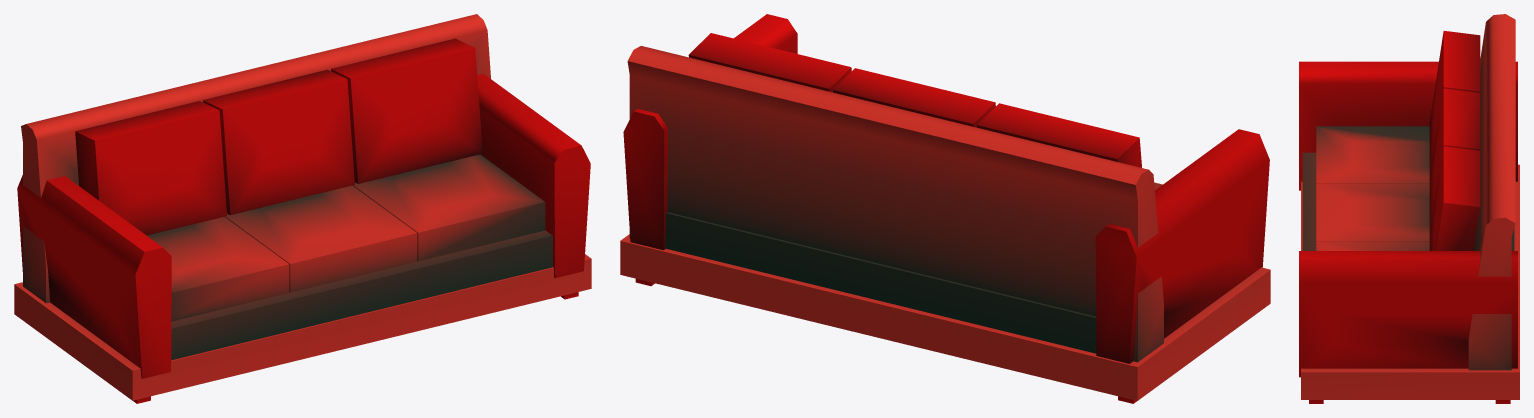
The model's file is CI_Living_Sofa_ThreeSeat_LOD1.glb.
The picture shows the model from 3 angles, left to right: view 1: azimuth 30°, elevation 25°; view 2: azimuth 150°, elevation 25°; view 3: azimuth 270°, elevation 25°; orthographic projection. The views are drawn at different scales.
Parts seen in each view (by area): view 1: CI_Living_Sofa_ThreeSeat_LOD1; view 2: CI_Living_Sofa_ThreeSeat_LOD1; view 3: CI_Living_Sofa_ThreeSeat_LOD1.
Part boxes in pixels (x1,y1,x2,y2): CI_Living_Sofa_ThreeSeat_LOD1: (14, 14, 591, 403); CI_Living_Sofa_ThreeSeat_LOD1: (620, 14, 1270, 403); CI_Living_Sofa_ThreeSeat_LOD1: (1299, 14, 1519, 403).
Bounding box in the file's own units: 2 × 0.845 × 0.898.
